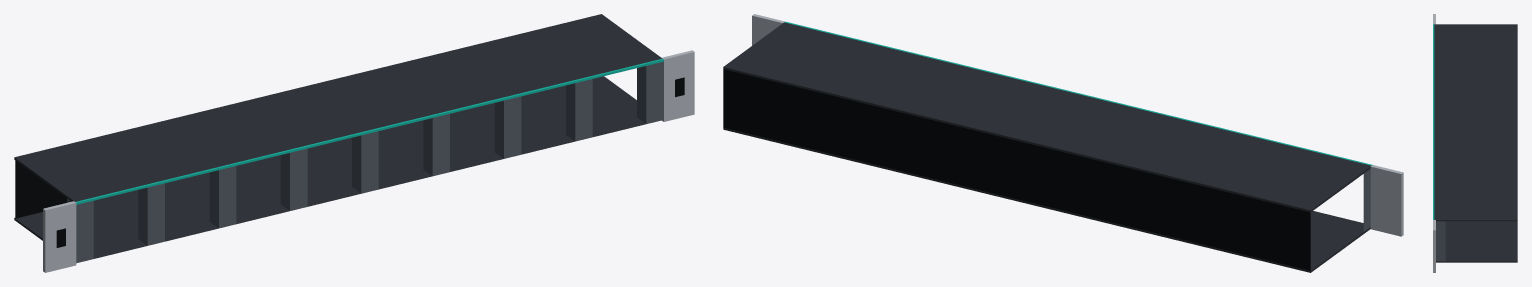
File: CableManager_1U_Horizontal.glb
3 renders of one model, left to right at view 1: azimuth 30°, elevation 25°; view 2: azimuth 150°, elevation 25°; view 3: azimuth 270°, elevation 25°, orthographic. The views are drawn at different scales.
Visible parts, largest first — view 1: CableManager_1U_Horizontal_Body; view 2: CableManager_1U_Horizontal_Body; view 3: CableManager_1U_Horizontal_Body.
Boxes of the visible parts, x1=… form: CableManager_1U_Horizontal_Body: x1=14, y1=14, x2=694, y2=272; CableManager_1U_Horizontal_Body: x1=723, y1=14, x2=1403, y2=272; CableManager_1U_Horizontal_Body: x1=1433, y1=14, x2=1517, y2=272.
Size of the model in its own units: 0.4826 by 0.0444 by 0.0806.
